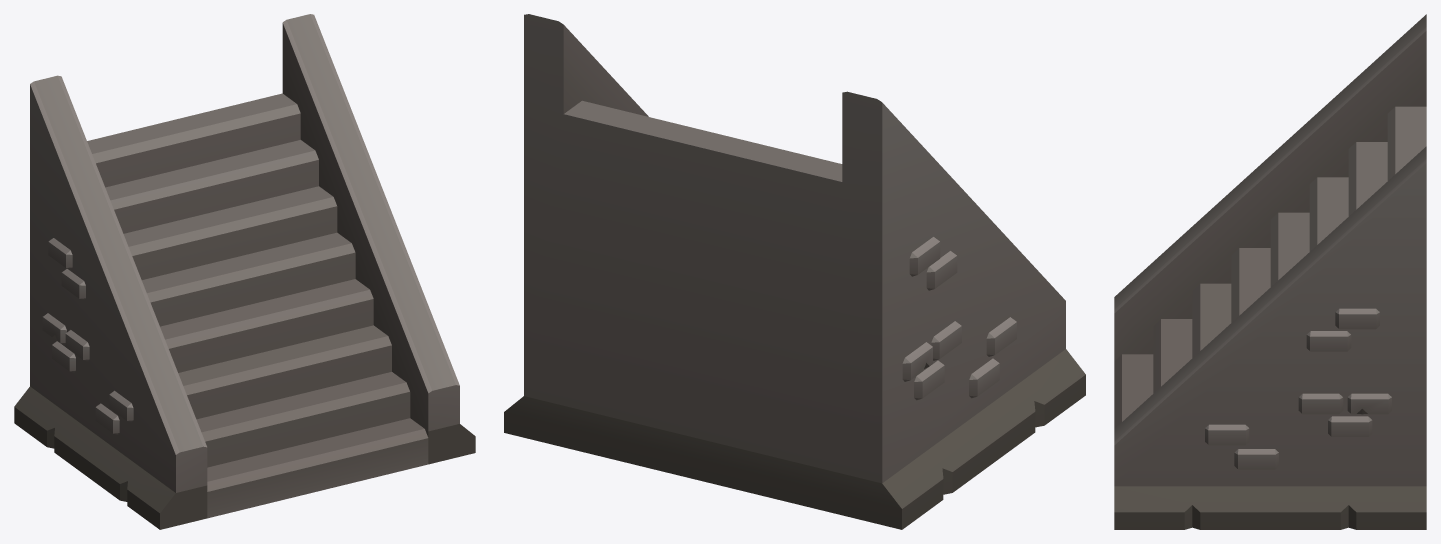
Rendered from kaykit_dungeon_stairs.glb.
3 renders of one model, left to right at view 1: azimuth 30°, elevation 25°; view 2: azimuth 150°, elevation 25°; view 3: azimuth 270°, elevation 25°, orthographic. The views are drawn at different scales.
Visible parts, largest first — view 1: stairs; view 2: stairs; view 3: stairs.
Part boxes in pixels (bbox=[...]): stairs: bbox=[14, 14, 475, 529]; stairs: bbox=[504, 14, 1085, 529]; stairs: bbox=[1114, 14, 1426, 529].
Size of the model in its own units: 5 by 5.1 by 4.
1 material, 1 textured.
